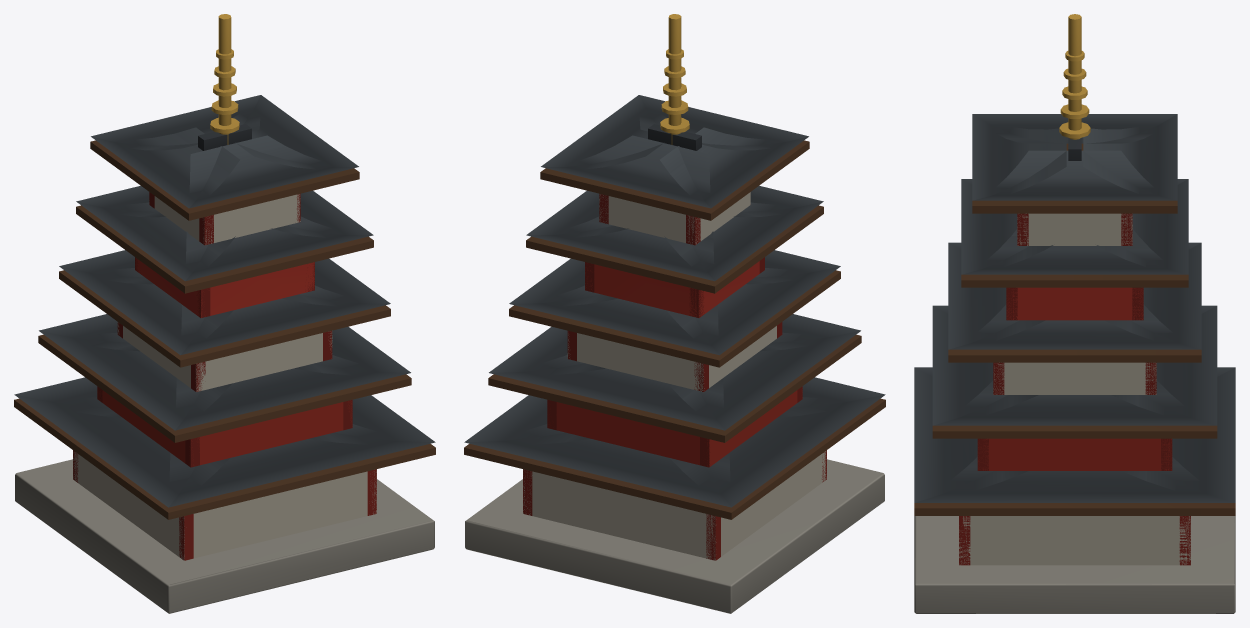
Rendered from prop.bamboo_pagoda.glb.
3 views of the same model, side by side, from view 1: azimuth 30°, elevation 25°; view 2: azimuth 150°, elevation 25°; view 3: azimuth 270°, elevation 25° (orthographic). The views are drawn at different scales.
Parts seen in each view (by area): view 1: bamboo_pagoda; view 2: bamboo_pagoda; view 3: bamboo_pagoda.
Boxes of the visible parts, x1,y1,x2,y2 form: bamboo_pagoda: (14,14,435,613); bamboo_pagoda: (464,14,885,613); bamboo_pagoda: (914,14,1235,613).
Bounding box in the file's own units: 8.6 × 15.65 × 8.6.
